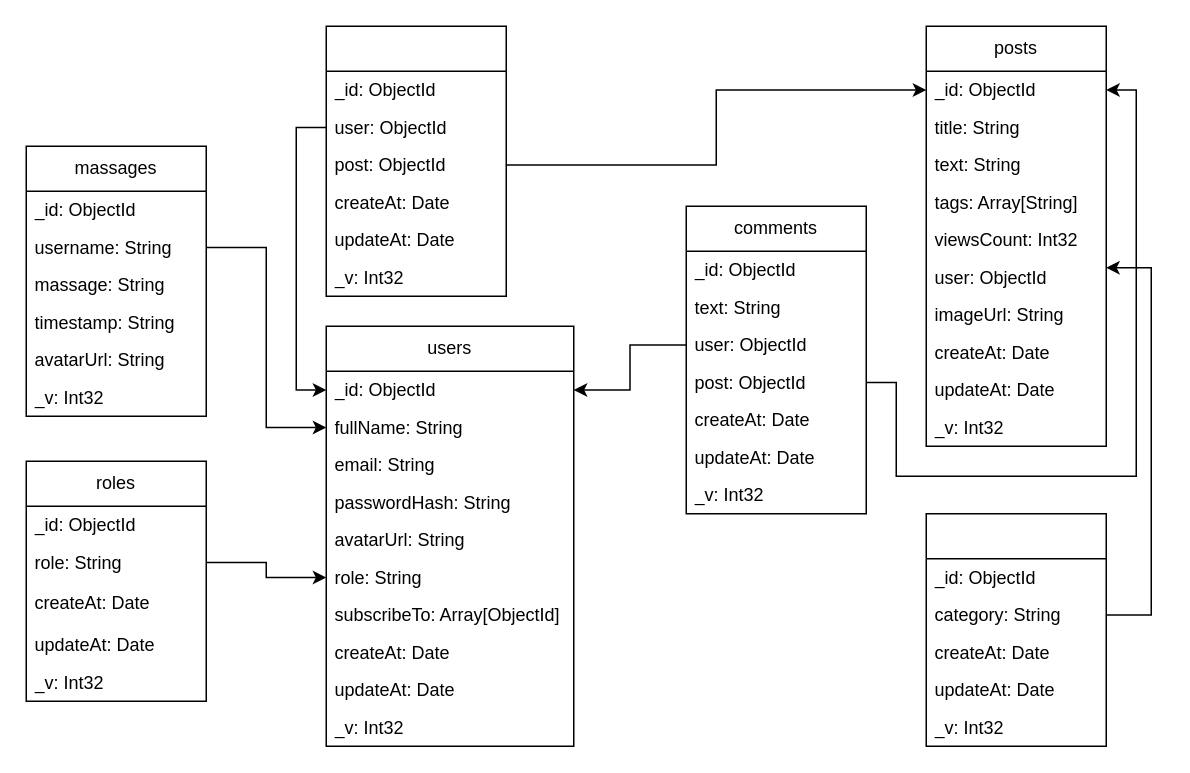
Image size: 1190x773. Some labels were removed from this diagram. The box of each missing label's shape, as (x1, y1, x2, y2) in pixels:
categories: (925, 512, 1106, 746)
likes: (325, 25, 506, 296)
